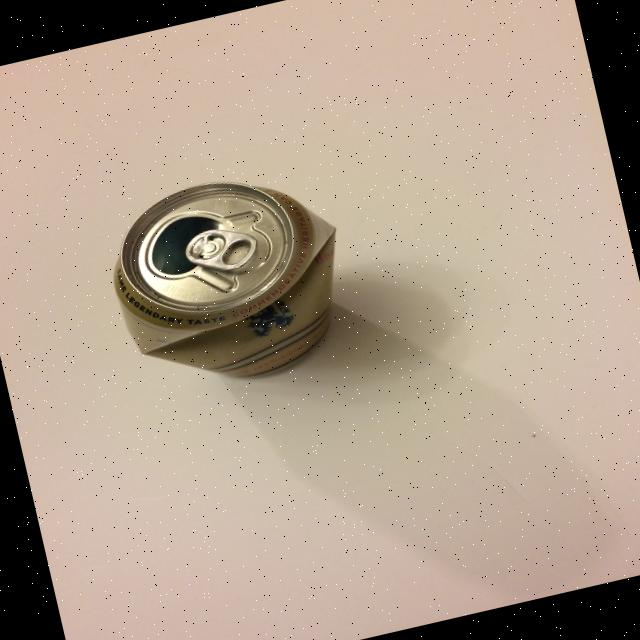metal: (94, 155, 364, 403)
